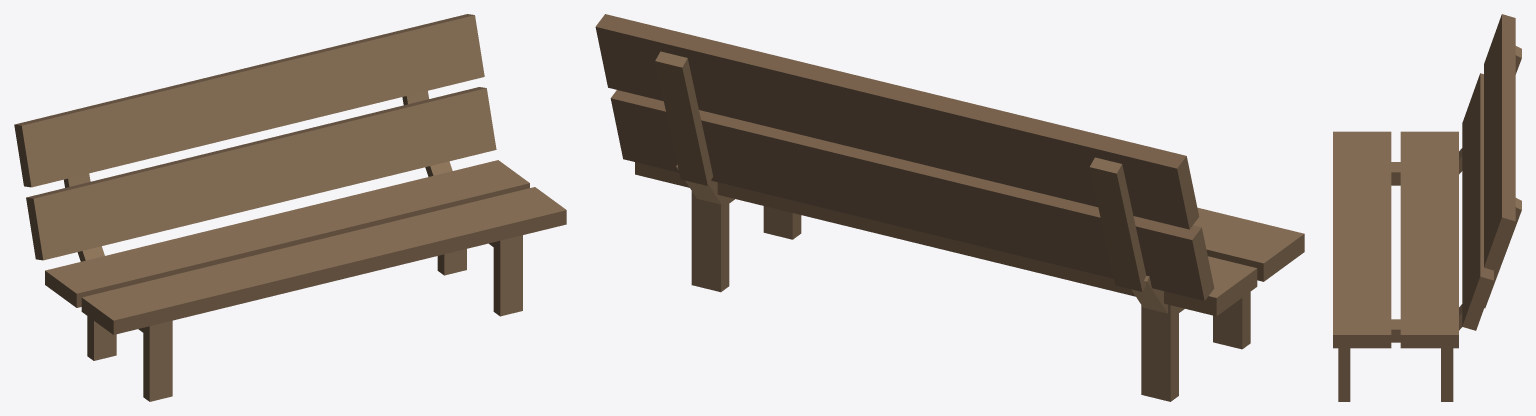
Rendered from bench.fbx.
3 renders of one model, left to right at view 1: azimuth 30°, elevation 25°; view 2: azimuth 150°, elevation 25°; view 3: azimuth 270°, elevation 25°, orthographic. The views are drawn at different scales.
Visible parts, largest first — view 1: bench1; view 2: bench1; view 3: bench1.
Part boxes in pixels (left/top/right/bottom): bench1: left=14, top=14, right=566, bottom=401; bench1: left=595, top=14, right=1304, bottom=401; bench1: left=1333, top=14, right=1521, bottom=401.
Bounding box in the file's own units: 8.25 × 3.84 × 3.24.
